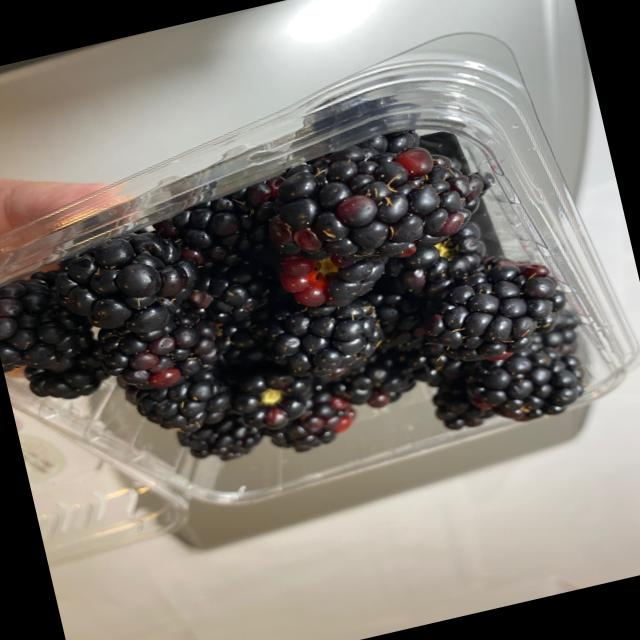blackberries: (0, 126, 619, 535)
